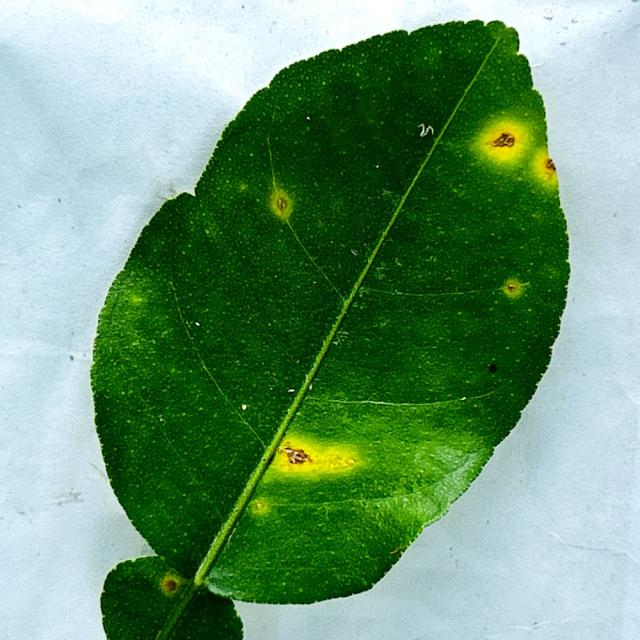Anthracnose: (269, 431, 373, 485), (480, 117, 531, 166), (266, 188, 301, 224), (159, 569, 190, 599), (116, 285, 149, 311), (498, 276, 528, 300), (542, 157, 558, 179), (251, 499, 268, 514)
Lemon: (88, 20, 572, 639)
